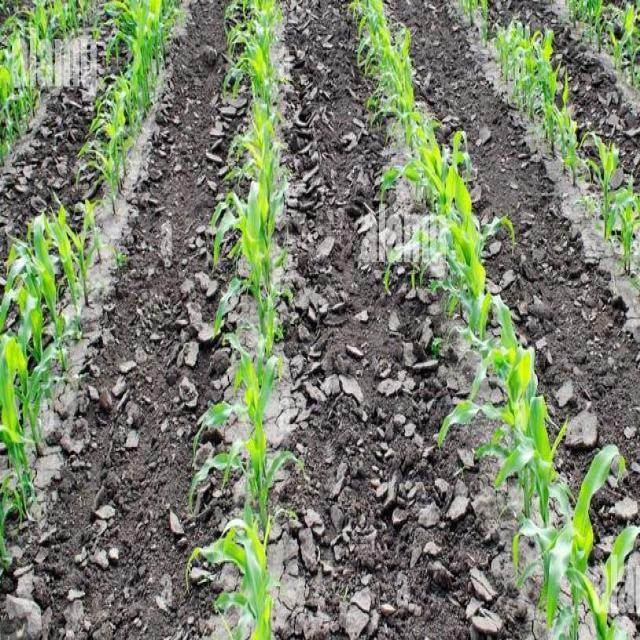row: (275, 0, 567, 640), (385, 0, 640, 639), (0, 1, 252, 640), (0, 1, 141, 352), (489, 0, 640, 219), (608, 0, 640, 36)
